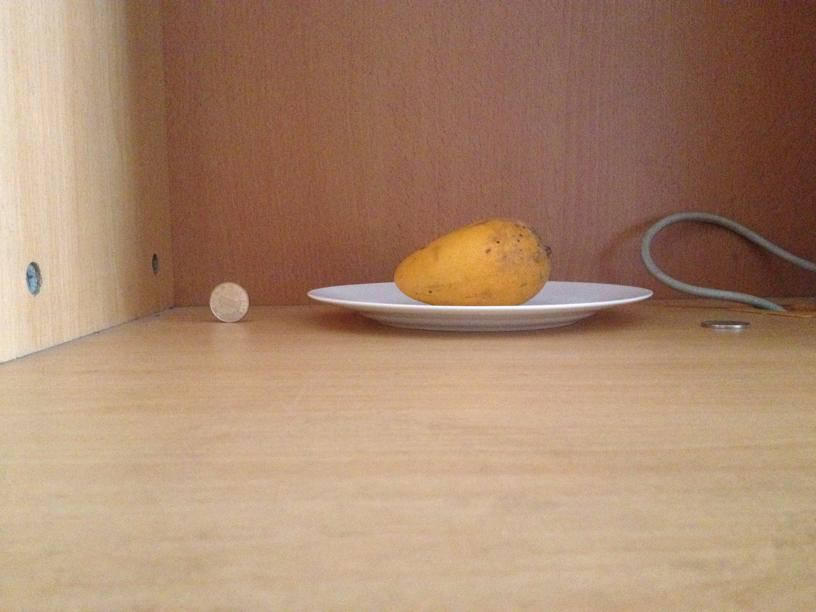coin: (209, 280, 251, 323)
mango: (391, 219, 552, 305)
